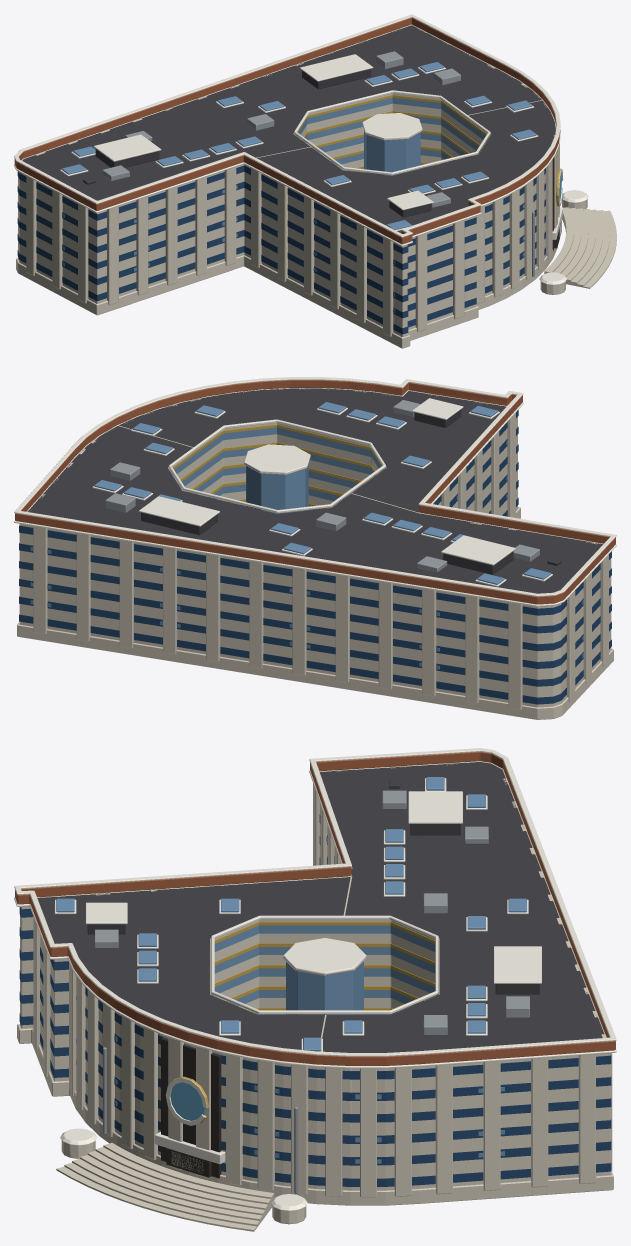
File: 505-van-ness.glb
3 renders of one model, top to bottom at view 1: azimuth 30°, elevation 25°; view 2: azimuth 150°, elevation 25°; view 3: azimuth 270°, elevation 25°, orthographic. The views are drawn at different scales.
Visible parts, largest first — view 1: body, grp_Toy_stone, grp_Toy_trim, grp_Toy_glass, fascia, grp_Toy_glassl, grp_Toy_steel, grp_Toy_gold, grp_Toy_roofd; view 2: body, grp_Toy_stone, grp_Toy_glass, grp_Toy_trim, fascia, grp_Toy_glassl, grp_Toy_steel, grp_Toy_gold, grp_Toy_roofd, grp_Toy_glass_Glow; view 3: body, grp_Toy_stone, grp_Toy_trim, grp_Toy_glass, grp_Toy_glassl, fascia, grp_Toy_steel, grp_Toy_ink, grp_Toy_gold, grp_Toy_roofd, seal_field, grp_Toy_trim_Glow.
Boxes of the visible parts, x1,y1,x2,y2 form: body: [18, 25, 555, 336]; grp_Toy_stone: [16, 28, 616, 348]; grp_Toy_trim: [14, 14, 588, 284]; grp_Toy_glass: [17, 165, 545, 334]; fascia: [14, 17, 560, 244]; grp_Toy_glassl: [61, 62, 536, 229]; grp_Toy_steel: [102, 51, 534, 276]; grp_Toy_gold: [295, 95, 561, 206]; grp_Toy_roofd: [83, 69, 431, 217]; body: [19, 388, 611, 707]; grp_Toy_stone: [17, 388, 613, 719]; grp_Toy_glass: [19, 410, 611, 704]; grp_Toy_trim: [14, 377, 616, 606]; fascia: [15, 380, 615, 604]; grp_Toy_glassl: [94, 402, 551, 584]; grp_Toy_steel: [105, 400, 539, 572]; grp_Toy_gold: [170, 424, 384, 508]; grp_Toy_roofd: [141, 409, 561, 574]; grp_Toy_glass_Glow: [30, 440, 583, 669]; body: [20, 762, 610, 1190]; grp_Toy_stone: [17, 762, 613, 1231]; grp_Toy_trim: [14, 748, 616, 1210]; grp_Toy_glass: [19, 814, 611, 1186]; grp_Toy_glassl: [56, 777, 526, 1051]; fascia: [15, 752, 615, 1065]; grp_Toy_steel: [94, 790, 529, 1193]; grp_Toy_ink: [161, 1037, 221, 1178]; grp_Toy_gold: [174, 922, 438, 1123]; grp_Toy_roofd: [87, 780, 539, 994]; seal_field: [170, 1082, 206, 1120]; grp_Toy_trim_Glow: [165, 1077, 207, 1173].
Bounding box in the file's own units: 124 × 27 × 95.32.
